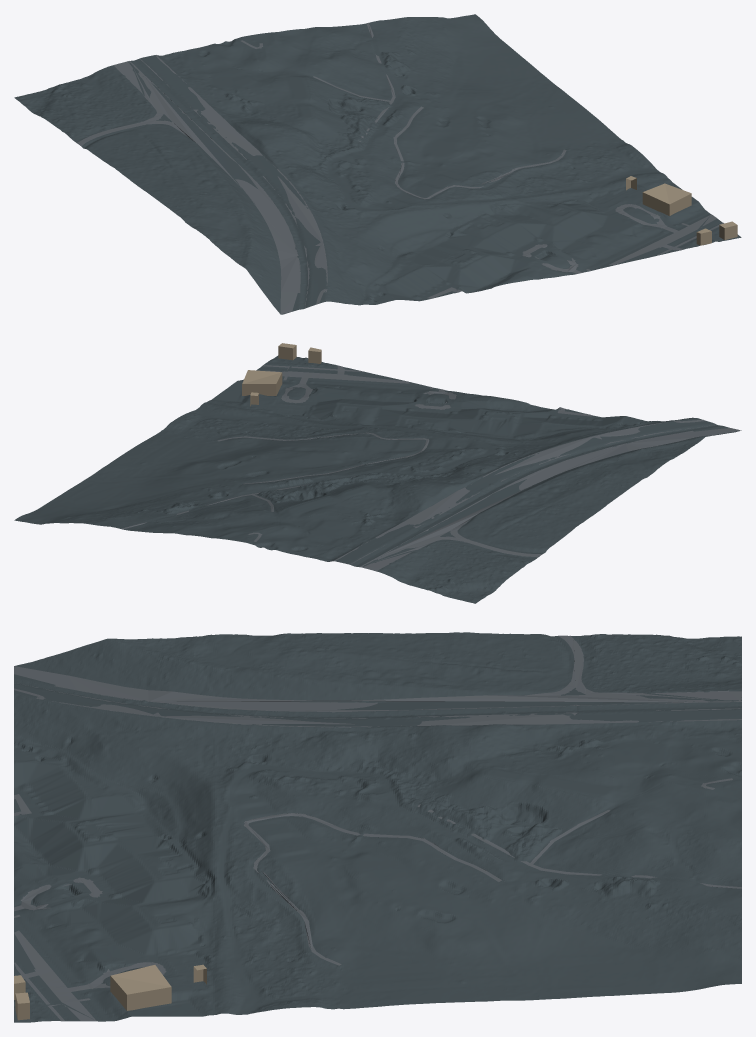
The model's file is epsg26910-1417-10870.lod0.glb.
The picture shows the model from 3 angles, top to bottom: view 1: azimuth 30°, elevation 25°; view 2: azimuth 150°, elevation 25°; view 3: azimuth 270°, elevation 25°; orthographic projection. The views are drawn at different scales.
Visible parts, largest first — view 1: epsg26910-1417-10870-lod0; view 2: epsg26910-1417-10870-lod0; view 3: epsg26910-1417-10870-lod0.
Part boxes in pixels (x1,y1,x2,y2): epsg26910-1417-10870-lod0: [14, 14, 741, 314]; epsg26910-1417-10870-lod0: [14, 343, 741, 603]; epsg26910-1417-10870-lod0: [14, 632, 741, 1022].
Bounding box in the file's own units: 384 × 52.68 × 384.
